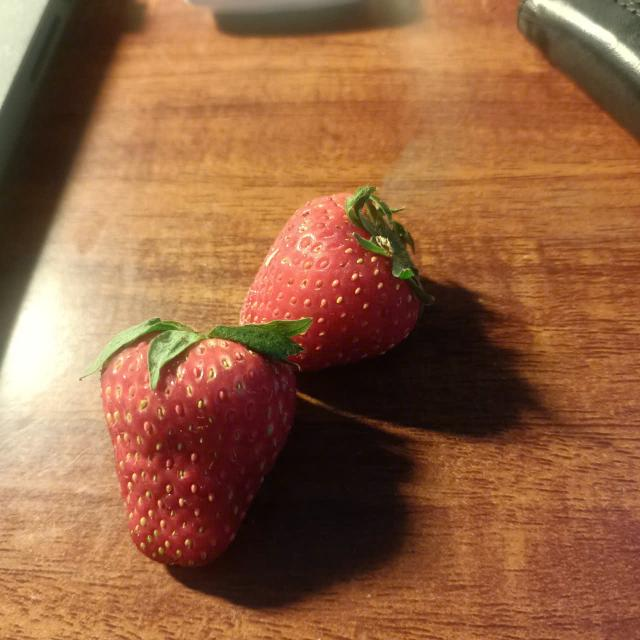DauTay: (73, 295, 320, 580), (220, 180, 453, 385)
